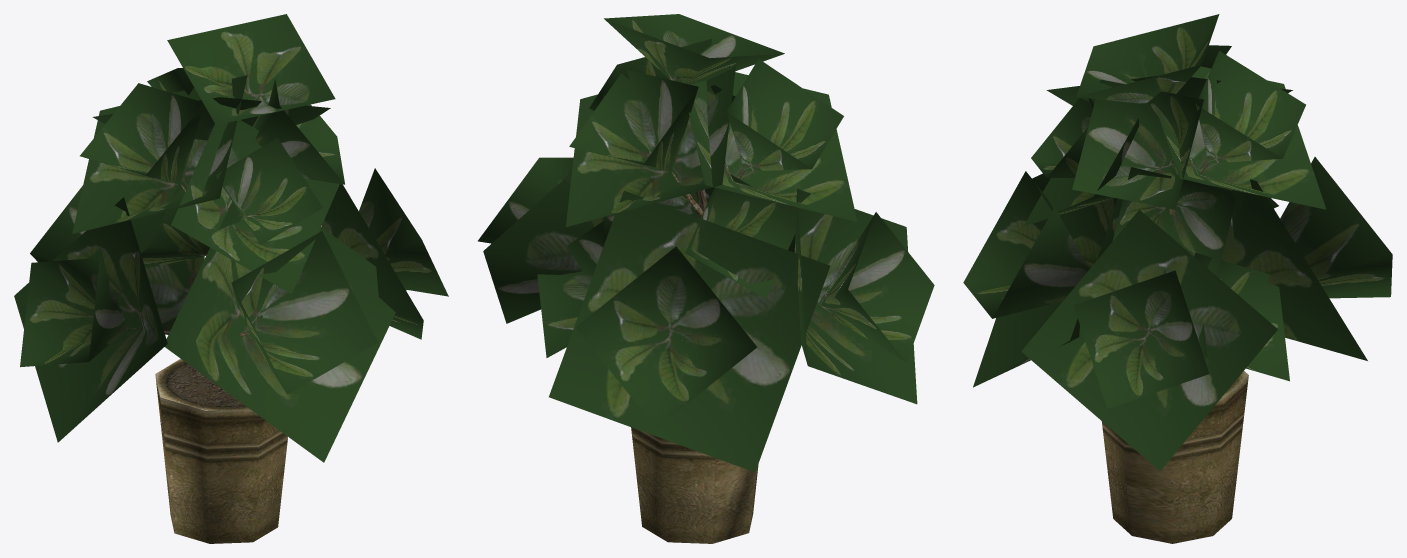
The model's file is frn_all_potted_plants_sml_s05_l1.fbx.
3 renders of one model, left to right at view 1: azimuth 30°, elevation 25°; view 2: azimuth 150°, elevation 25°; view 3: azimuth 270°, elevation 25°, orthographic. The views are drawn at different scales.
Visible parts, largest first — view 1: mesh_node; view 2: mesh_node; view 3: mesh_node.
Part boxes in pixels (x1,y1,x2,y2): mesh_node: (14, 14, 448, 543); mesh_node: (478, 14, 934, 543); mesh_node: (963, 14, 1392, 543).
Bounding box in the file's own units: 1.27 × 1.45 × 1.15.
